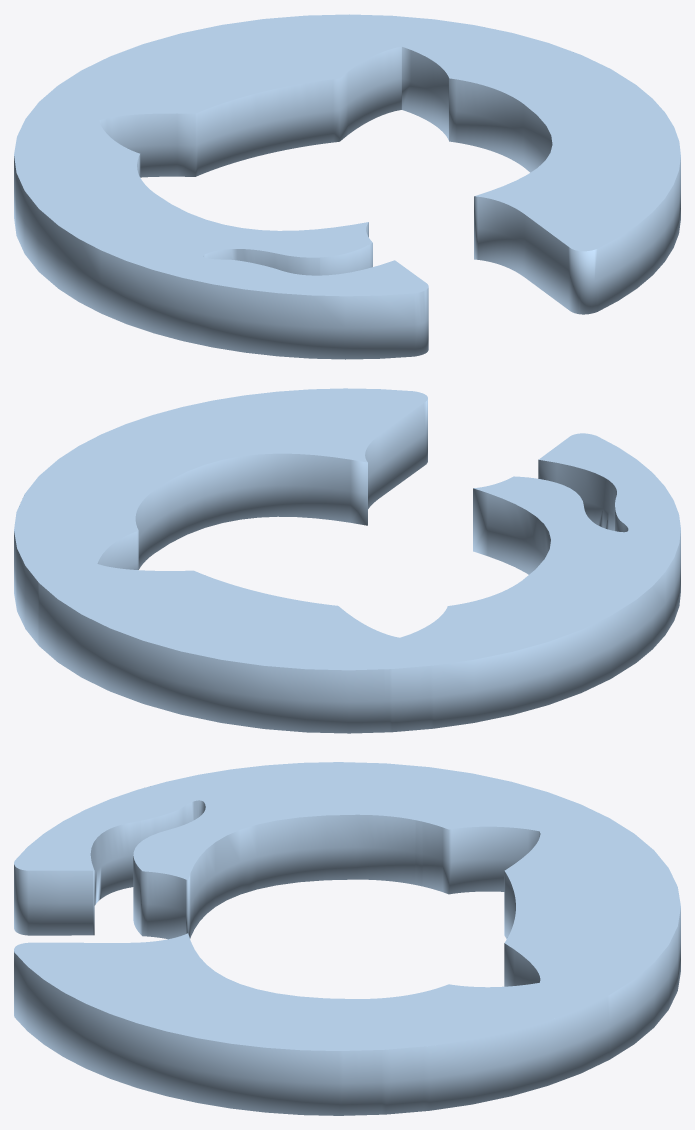
Rendered from Github.gltf.
The picture shows the model from 3 angles, top to bottom: view 1: azimuth 30°, elevation 25°; view 2: azimuth 150°, elevation 25°; view 3: azimuth 270°, elevation 25°; orthographic projection. The views are drawn at different scales.
Visible parts, largest first — view 1: Curve; view 2: Curve; view 3: Curve.
Boxes of the visible parts, box(x1,y1,x2,y2) form: Curve: box(14, 14, 680, 359); Curve: box(14, 388, 680, 733); Curve: box(14, 762, 680, 1115).
Size of the model in its own units: 0.9558 by 0.0999 by 0.932.
